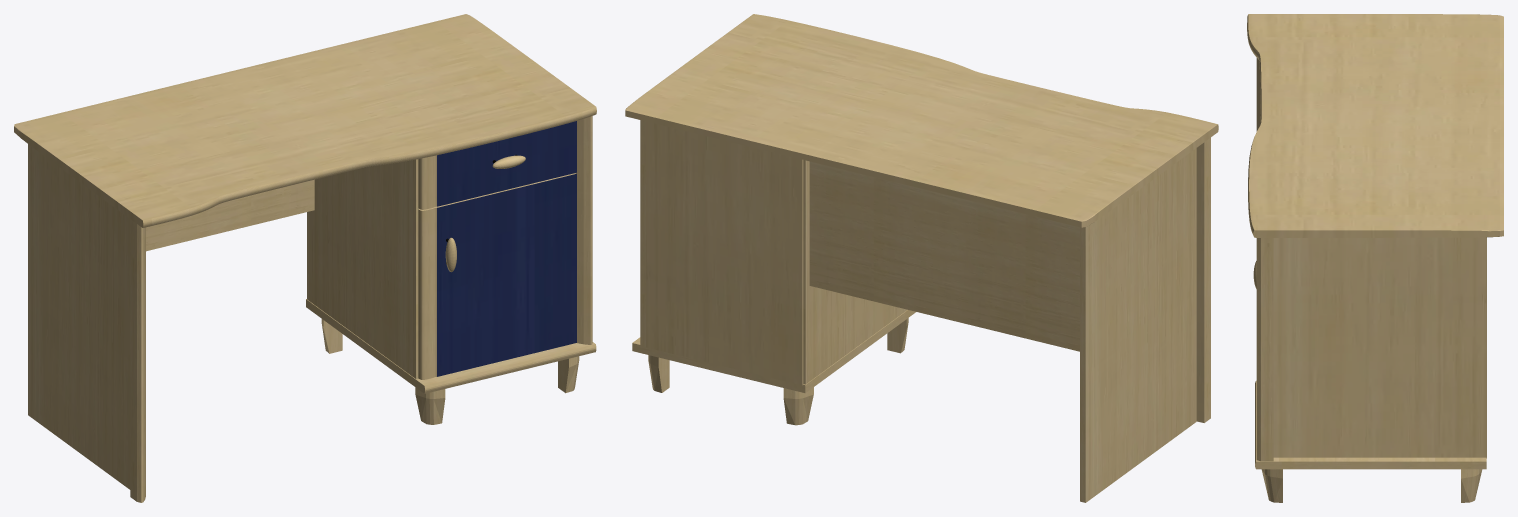
Rendered from by-biurko3.glb.
3 views of the same model, side by side, from view 1: azimuth 30°, elevation 25°; view 2: azimuth 150°, elevation 25°; view 3: azimuth 270°, elevation 25° (orthographic). The views are drawn at different scales.
Visible parts, largest first — view 1: Cube, Cube.007, Cube.005_Cube.004, Cube.008, Cube.001_Cube.003, Cube.004_Cube.001, Cube.002, Cube.003_Cube.005, Plane, Sphere; view 2: Cube, Cube.009, Cube.002, Cube.007, Cube.008, Cube.001_Cube.003, Cube.003_Cube.005, Plane, Cube.006; view 3: Cube, Cube.006, Cube.001_Cube.003, Cube.003_Cube.005, Plane.
Part boxes in pixels (x1,y1,x2,y2): Cube: (14,14,596,227); Cube.007: (28,144,130,489); Cube.005_Cube.004: (418,173,576,379); Cube.008: (307,159,418,378); Cube.001_Cube.003: (130,116,592,502); Cube.004_Cube.001: (418,121,576,209); Cube.002: (146,179,314,251); Cube.003_Cube.005: (306,299,596,393); Plane: (321,319,579,424); Sphere: (445,154,525,272); Cube: (625,14,1218,227); Cube.009: (646,121,803,385); Cube.002: (809,161,1079,351); Cube.007: (1080,148,1196,502); Cube.008: (803,160,907,384); Cube.001_Cube.003: (1196,137,1210,422); Cube.003_Cube.005: (632,310,915,393); Plane: (648,318,908,425); Cube.006: (640,120,645,347); Cube: (1247,14,1503,237); Cube.006: (1273,237,1486,458); Cube.001_Cube.003: (1256,58,1273,461); Cube.003_Cube.005: (1255,380,1486,469); Plane: (1261,469,1482,502).
Size of the model in its own units: 1.2 by 0.72 by 0.602.
Materials: 3 (2 with a texture image).
